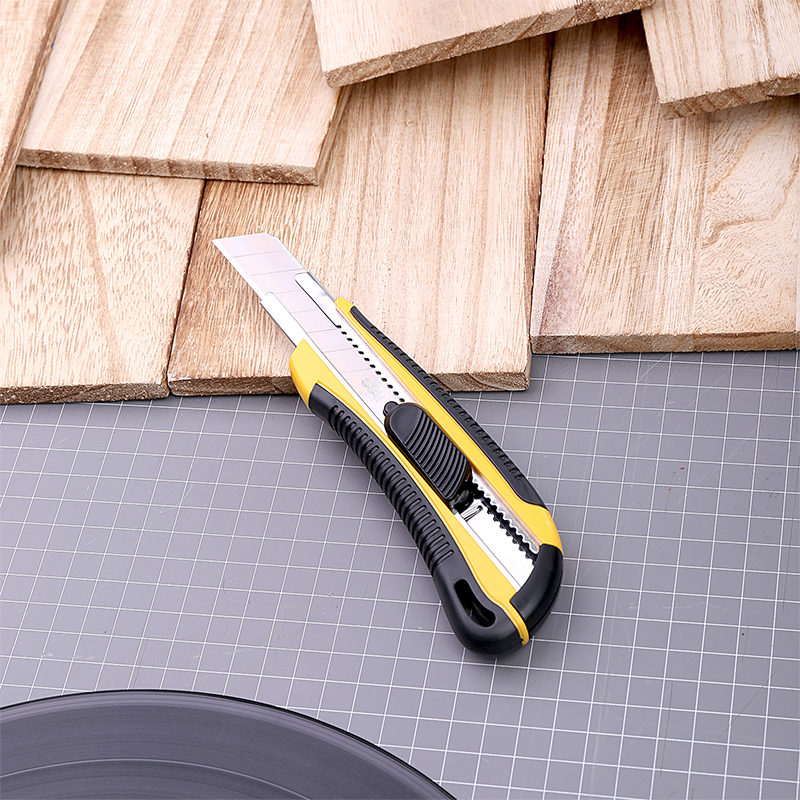cutter: (203, 231, 567, 661)
